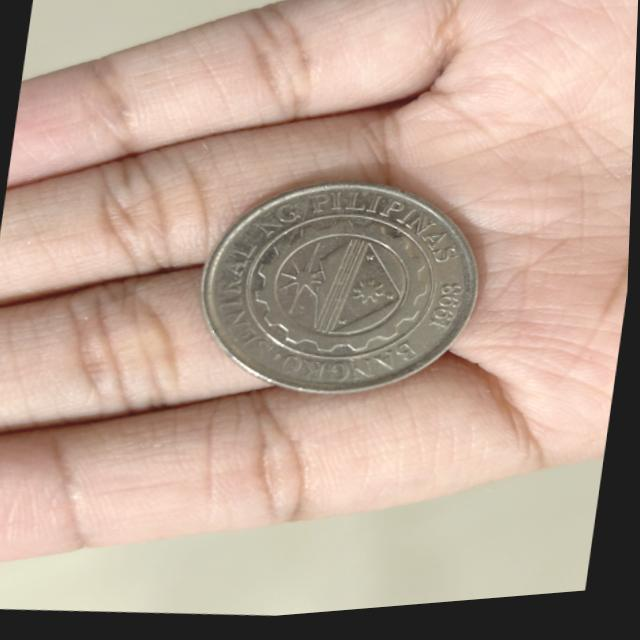1_Old_Back: (232, 197, 457, 388)
